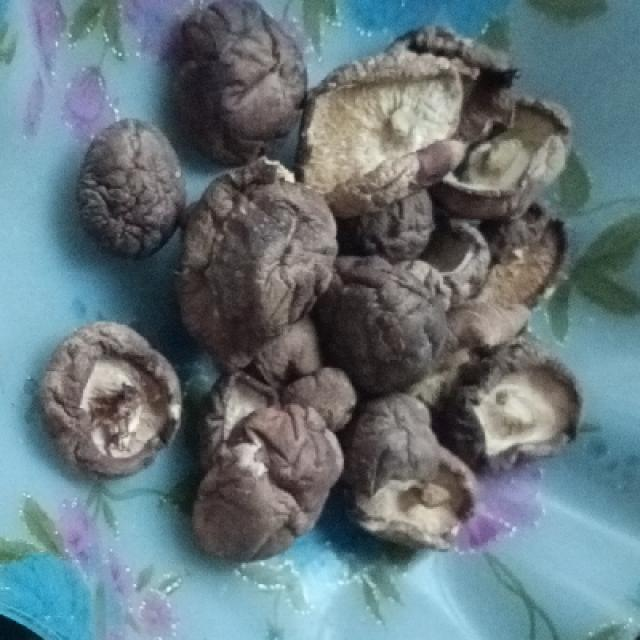Lentinus edodes: (184, 162, 337, 358), (199, 403, 343, 560), (295, 54, 464, 184), (175, 0, 311, 159), (44, 323, 185, 474), (358, 396, 477, 551), (329, 260, 454, 384), (447, 98, 574, 219), (476, 338, 585, 475), (84, 121, 187, 258)
